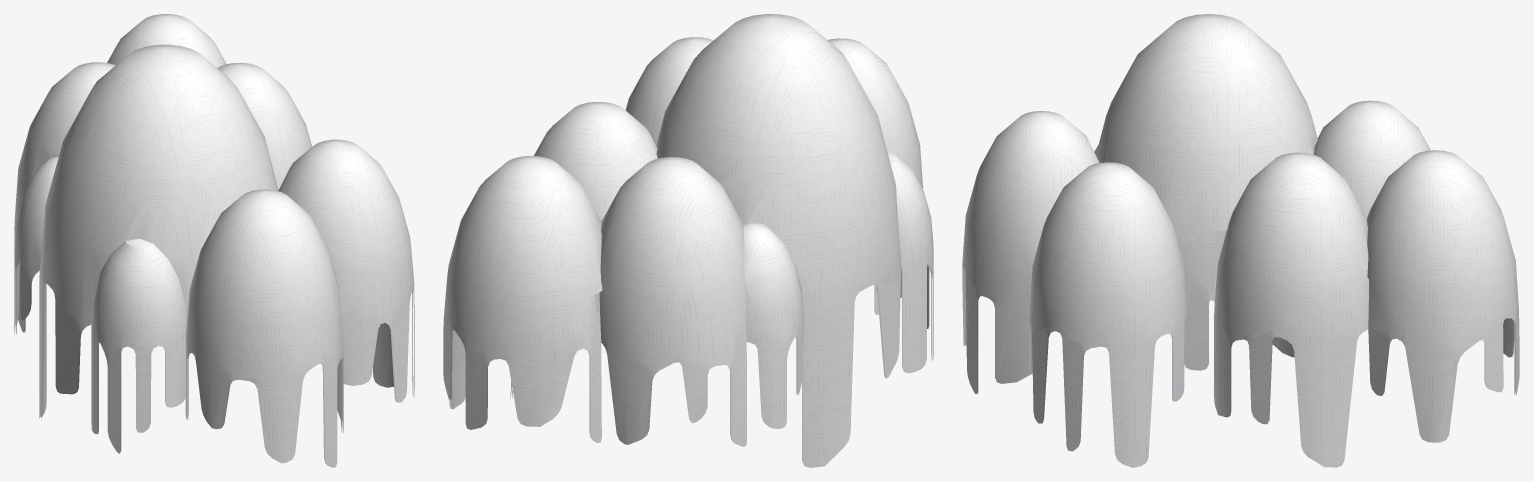
Rendered from Dome01_Art.fbx.
3 renders of one model, left to right at view 1: azimuth 30°, elevation 25°; view 2: azimuth 150°, elevation 25°; view 3: azimuth 270°, elevation 25°, orthographic. The views are drawn at different scales.
Parts seen in each view (by area): view 1: Dome01_Art; view 2: Dome01_Art; view 3: Dome01_Art.
Boxes of the visible parts, <box> form: Dome01_Art: <box>14,14,414,467</box>; Dome01_Art: <box>443,14,933,467</box>; Dome01_Art: <box>962,14,1519,467</box>.
Bounding box in the file's own units: 27.64 × 33 × 44.26.
